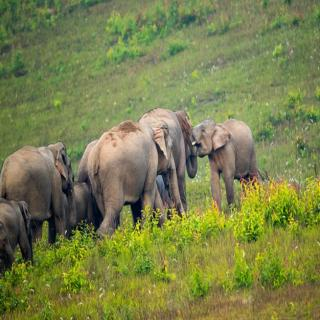Elephant: (85, 118, 181, 246), (0, 139, 79, 239), (190, 116, 263, 209), (0, 193, 37, 275)
